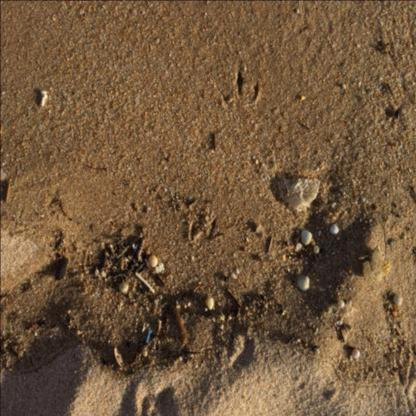Other plastic: (135, 272, 154, 292), (145, 328, 151, 343)
Plastic bag - wrapper: (281, 176, 320, 210)
Styrofoam piece: (40, 90, 48, 106)
